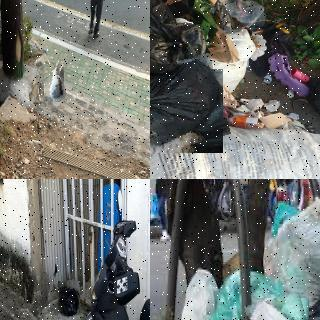Garbage: (150, 122, 320, 179), (150, 61, 227, 160), (274, 200, 320, 310), (150, 0, 212, 74), (213, 273, 283, 320), (178, 268, 227, 320), (248, 295, 312, 320), (55, 279, 82, 320), (42, 63, 66, 103)
